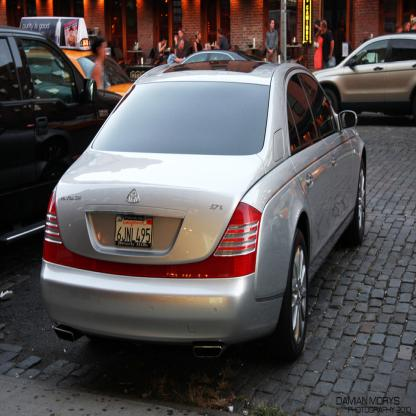Car: (1, 17, 416, 369)
